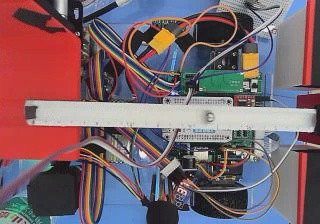ironball: (204, 112, 214, 122)
